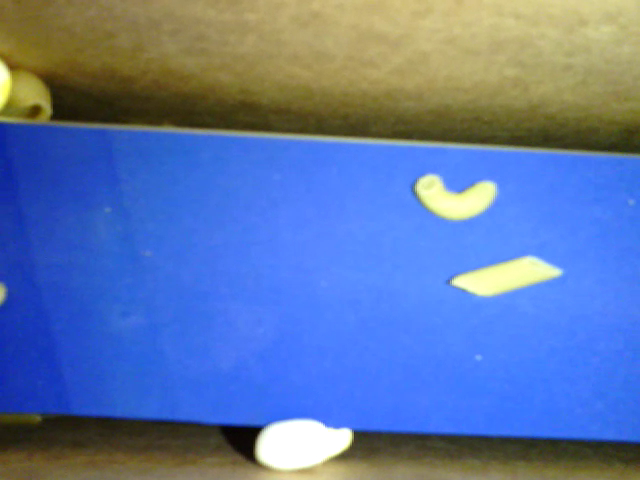elbow: (413, 170, 503, 220)
penne: (448, 254, 565, 301)
shell: (1, 70, 55, 126)
